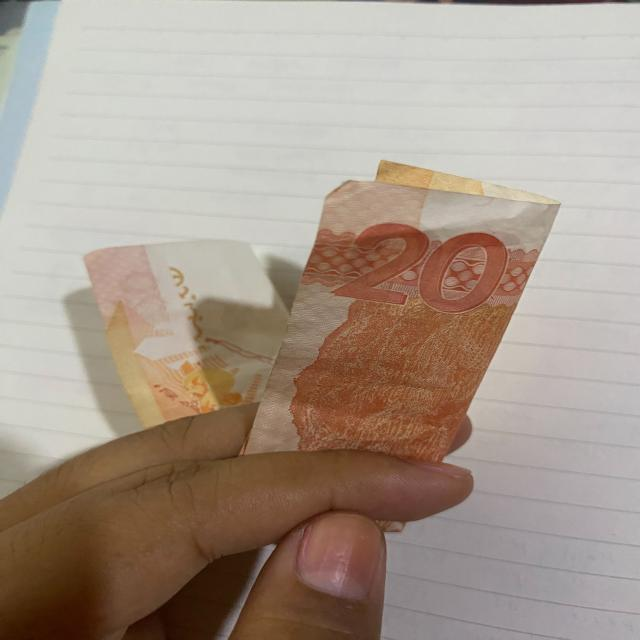see_through_mark: (161, 262, 223, 354)
value: (333, 213, 493, 333)
